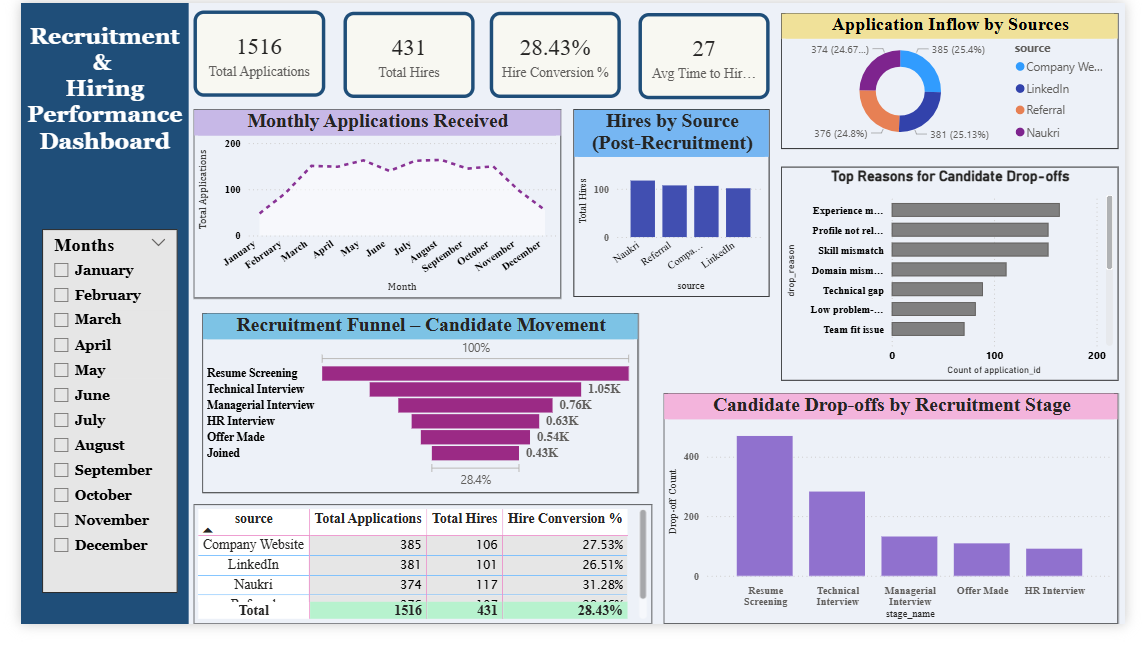

The dashboard page shown, as its layout file describes it:
{"tool":"powerbi","page":{"name":"Recruitment Overview","canvas":[1280,720],"ordinal":0},"visuals":[{"type":"card","fields":{"Values":["applications.Total Applications"]},"box":[200,8.8,152.5,100],"z":0},{"type":"card","fields":{"Values":["applications.Total Hires"]},"box":[373.9,10.1,152.2,100],"z":1000},{"type":"card","fields":{"Values":["applications.Hire Conversion %"]},"box":[543.5,10.1,152.2,100],"z":2000},{"type":"card","fields":{"Values":["applications.Avg Time to Hire (Days)"]},"box":[715.9,11.6,152.2,100],"z":3000},{"type":"areaChart","title":"Monthly Applications Received","fields":{"Category":["applications.application_date.Variation.Date Hierarchy.Month"],"Y":["applications.Total Applications"]},"box":[200,123.2,426.1,218.8],"z":4000},{"type":"funnel","title":"Recruitment Funnel – Candidate Movement","fields":{"Category":["recruitment_stage_events.stage_name"],"Y":["Count(recruitment_stage_events.application_id)"]},"box":[210.1,359.4,505.8,208.7],"z":5000},{"type":"donutChart","title":"Application Inflow by Sources","fields":{"Category":["applications.source"],"Y":["applications.Total Applications"]},"box":[881.2,11.6,391.3,158],"z":6000},{"type":"columnChart","title":"Hires by Source (Post-Recruitment)","fields":{"Category":["applications.source"],"Y":["applications.Total Hires"]},"box":[640.6,123.2,227.5,217.4],"z":7000},{"type":"textbox","box":[0,0,194.2,720.3],"z":8000},{"type":"slicer","fields":{"Values":["applications.application_date.Variation.Date Hierarchy.Month","applications.source"]},"box":[1356.1,58.5,165.9,148.8],"z":9000},{"type":"clusteredColumnChart","title":"Candidate Drop-offs by Recruitment Stage","fields":{"Category":["recruitment_stage_events.stage_name"],"Y":["applications.Drop-off Count"]},"box":[744.9,452.2,527.5,268.1],"z":10000},{"type":"pivotTable","fields":{"Rows":["applications.source"],"Values":["applications.Total Applications","applications.Total Hires","applications.Hire Conversion %"]},"box":[200,581.2,531.9,139.1],"z":11000},{"type":"slicer","fields":{"Values":["applications.application_date.Variation.Date Hierarchy.Month"]},"box":[24.6,262.3,156.5,421.7],"z":12000},{"type":"clusteredBarChart","title":"Top Reasons for Candidate Drop-offs","fields":{"Category":["recruitment_stage_events.drop_reason"],"Y":["CountNonNull(recruitment_stage_events.application_id)"]},"box":[881.2,189.9,391.3,247.8],"z":13000}]}

Visuals, with their boxes in screenshot pixels (x1, y1, x2, y2), scaled from the page's 1280x720 canvas onto the 1142x648 screenshot:
card - applications.Total Applications: (178,8,314,98)
card - applications.Total Hires: (334,9,469,99)
card - applications.Hire Conversion %: (485,9,621,99)
card - applications.Avg Time to Hire (Days): (639,10,775,100)
"Monthly Applications Received" areaChart: (178,111,559,308)
"Recruitment Funnel – Candidate Movement" funnel: (187,323,639,511)
"Application Inflow by Sources" donutChart: (786,10,1135,153)
"Hires by Source (Post-Recruitment)" columnChart: (572,111,775,307)
textbox: (0,0,173,647)
"Candidate Drop-offs by Recruitment Stage" clusteredColumnChart: (665,407,1135,647)
pivotTable - applications.source x applications.Total Applications: (178,523,653,647)
slicer - applications.application_date.Variation.Date Hierarchy.Month: (22,236,162,616)
"Top Reasons for Candidate Drop-offs" clusteredBarChart: (786,171,1135,394)
